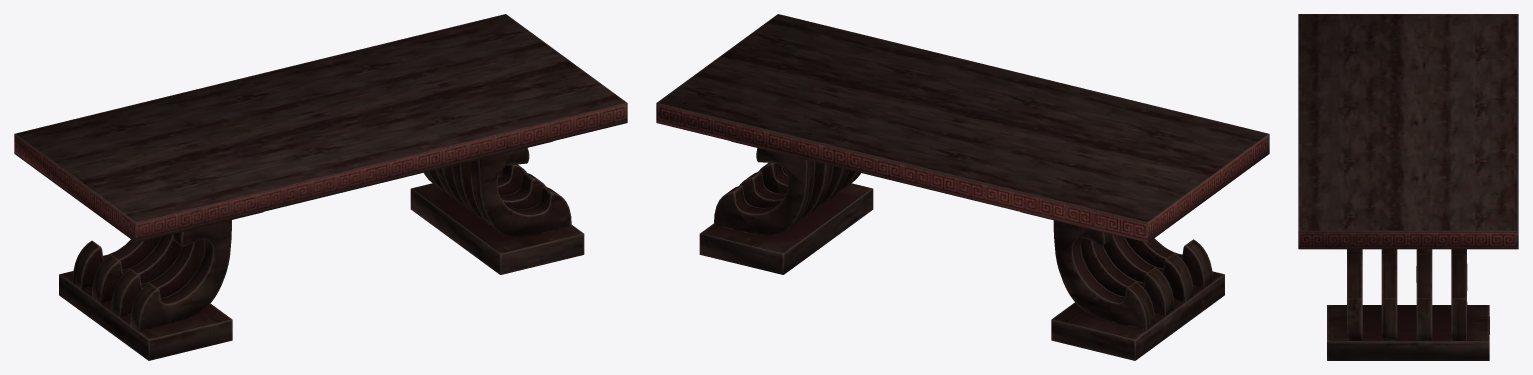
The model's file is desk.glb.
3 renders of one model, left to right at view 1: azimuth 30°, elevation 25°; view 2: azimuth 150°, elevation 25°; view 3: azimuth 270°, elevation 25°, orthographic. The views are drawn at different scales.
Visible parts, largest first — view 1: defaultMaterial; view 2: defaultMaterial; view 3: defaultMaterial.
Part boxes in pixels (x1,y1,x2,y2): defaultMaterial: (14,14,627,360); defaultMaterial: (656,14,1269,360); defaultMaterial: (1298,14,1518,360).
Size of the model in its own units: 2314 by 706 by 992.
1 material, 1 textured.
